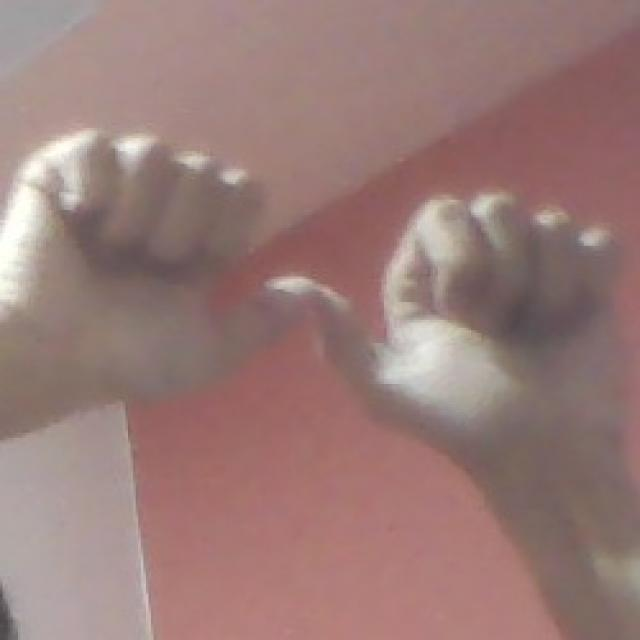Alphabet-A: (5, 125, 625, 463)
